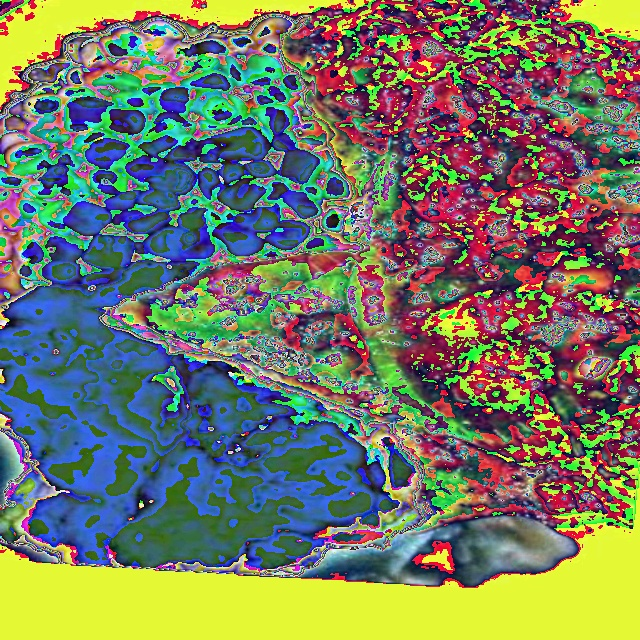background: (0, 0, 640, 578)
